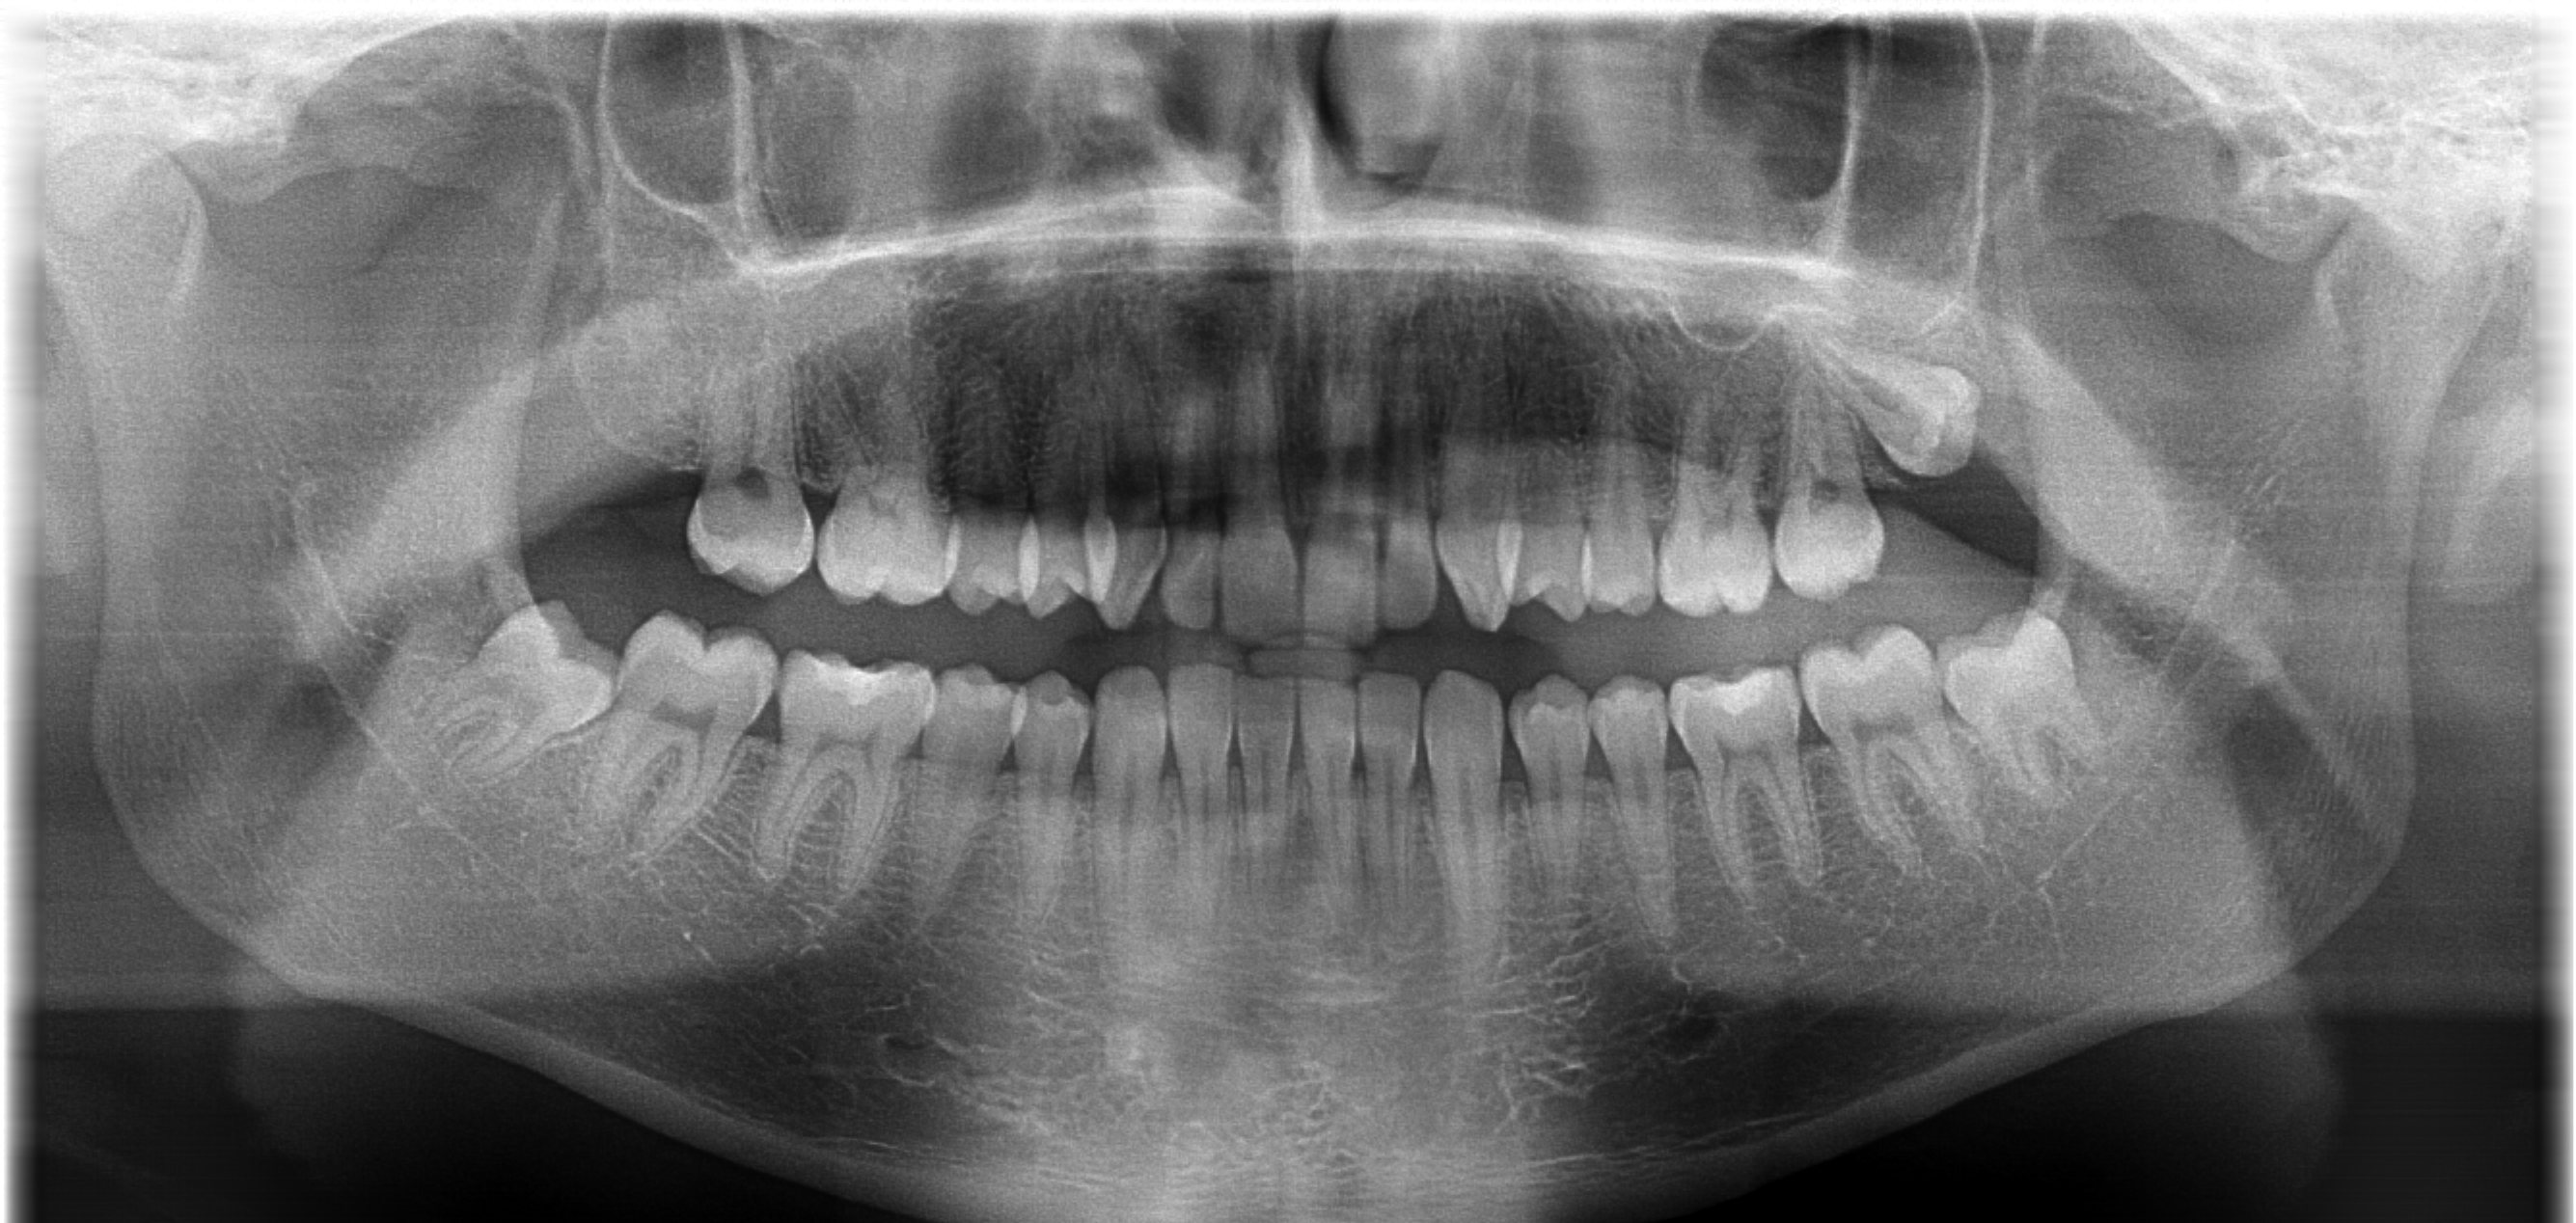apinamiento: (923, 494, 1165, 619)
cordal: (378, 579, 647, 803), (1924, 579, 2139, 818), (1809, 305, 2039, 514)
